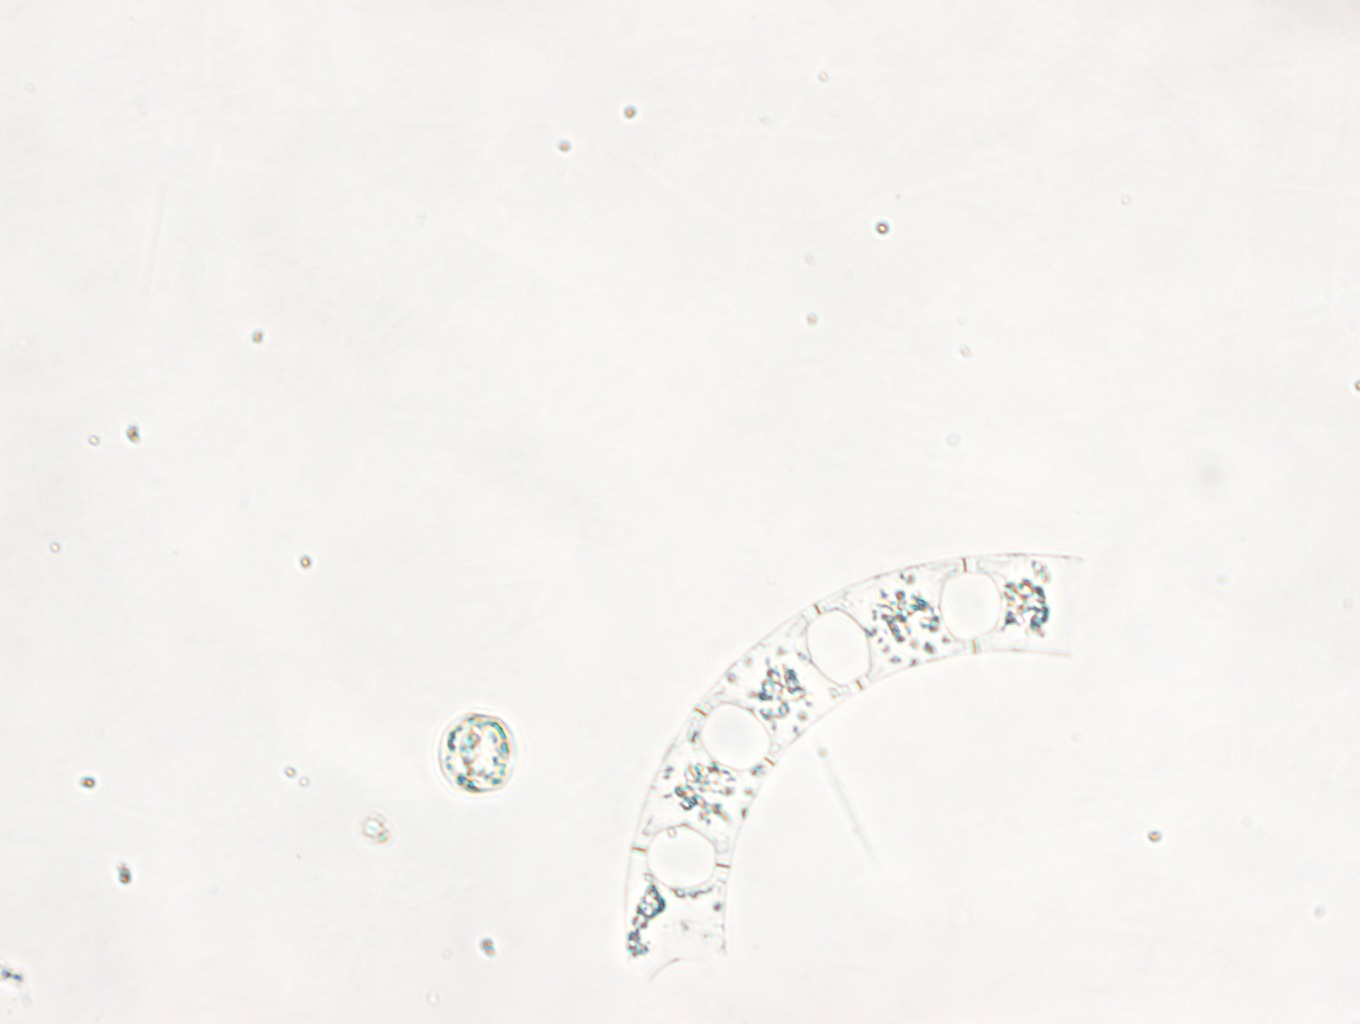eucampia: (622, 553, 1084, 1002)
